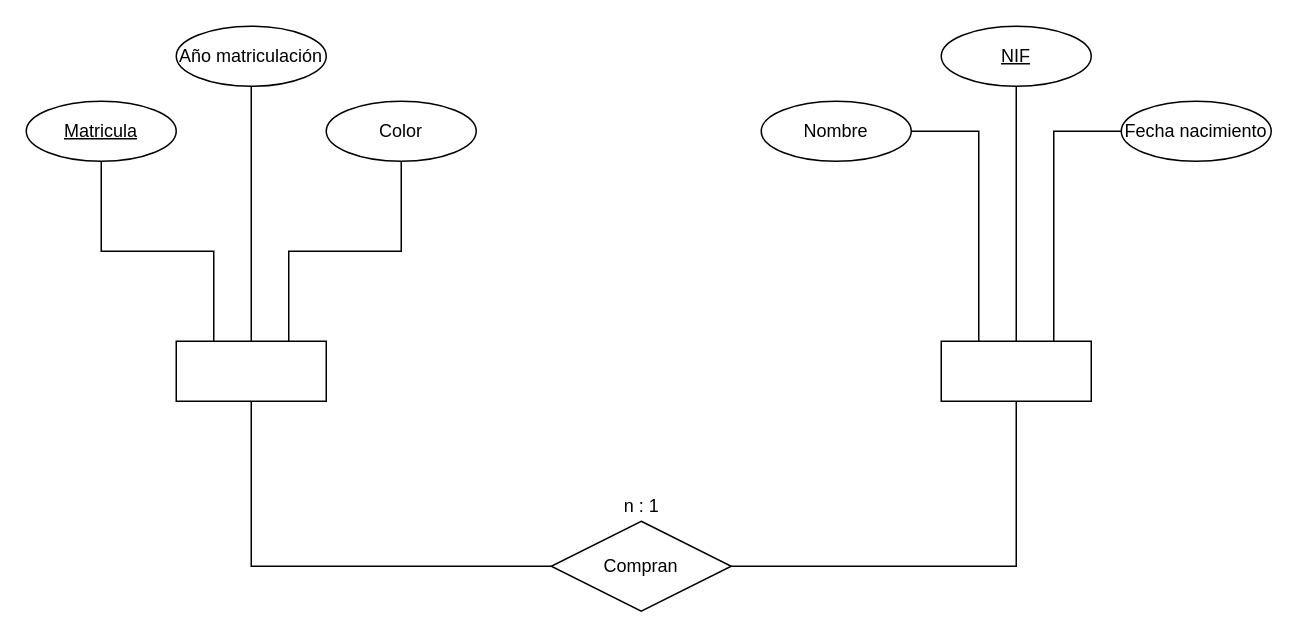
Image size: 1298x638. Some labels were removed from this diagram. The shapes that lost their labels are listed below. From the top down, each one's box as (x1, y1, x2, y2) in pixels, then its label:
(175, 340, 326, 401): Coches
(940, 340, 1091, 401): Cliente
